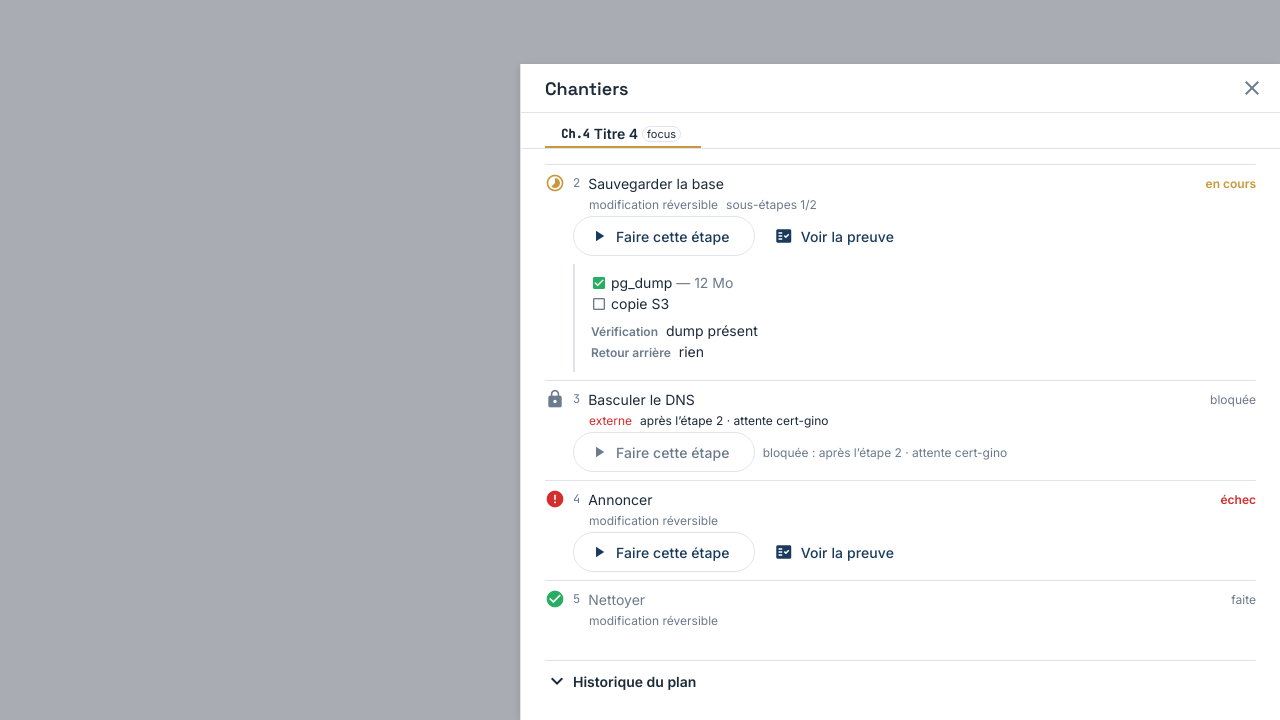
Test: F-208 / SF-208-03 — le tableau des chantiers › l’historique se lit à la demande : ajouts, retraits, modifications ; vide et erreur le disent
The image size is (1280, 720).
(page scrolled)
Click the button with class "board__history-toggle" at coordinates (621, 681), box 545,669 -> 696,693
(page scrolled)
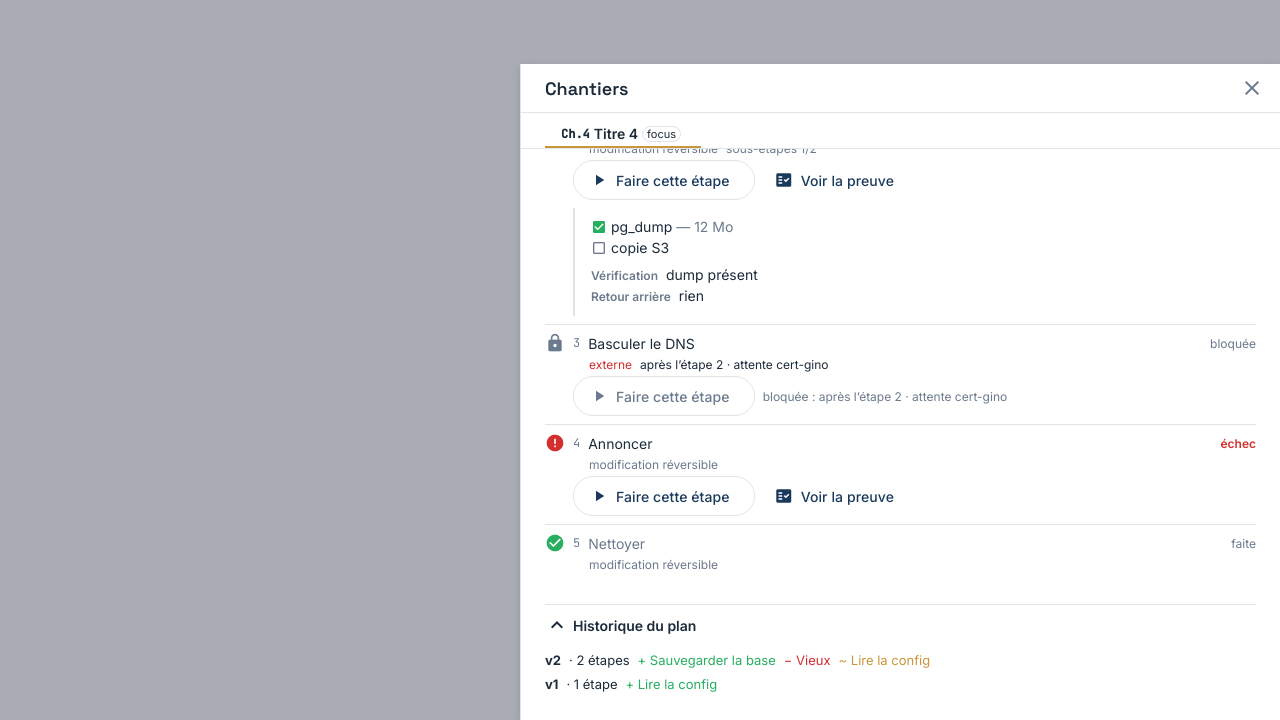
Result: the list item with class "board__version" shows "v2" at 545,652 -> 561,668
Result: the list item with class "board__version" shows "+ Sauvegarder la base" at 638,652 -> 776,668
Result: the list item with class "board__version" shows "− Vieux" at 784,652 -> 831,668
